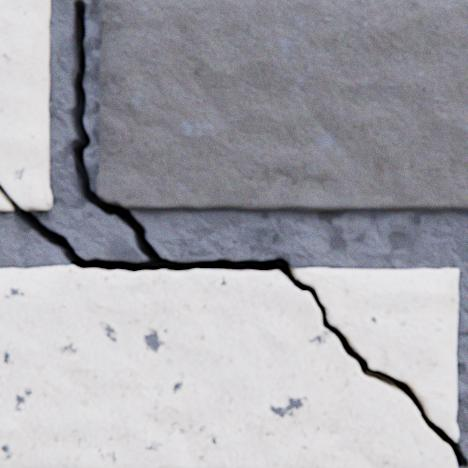brick: (97, 0, 467, 211)
broken_brick: (0, 266, 456, 467), (295, 268, 457, 440), (0, 0, 53, 210), (0, 192, 13, 210), (304, 211, 332, 212)
crack: (0, 1, 467, 467)
